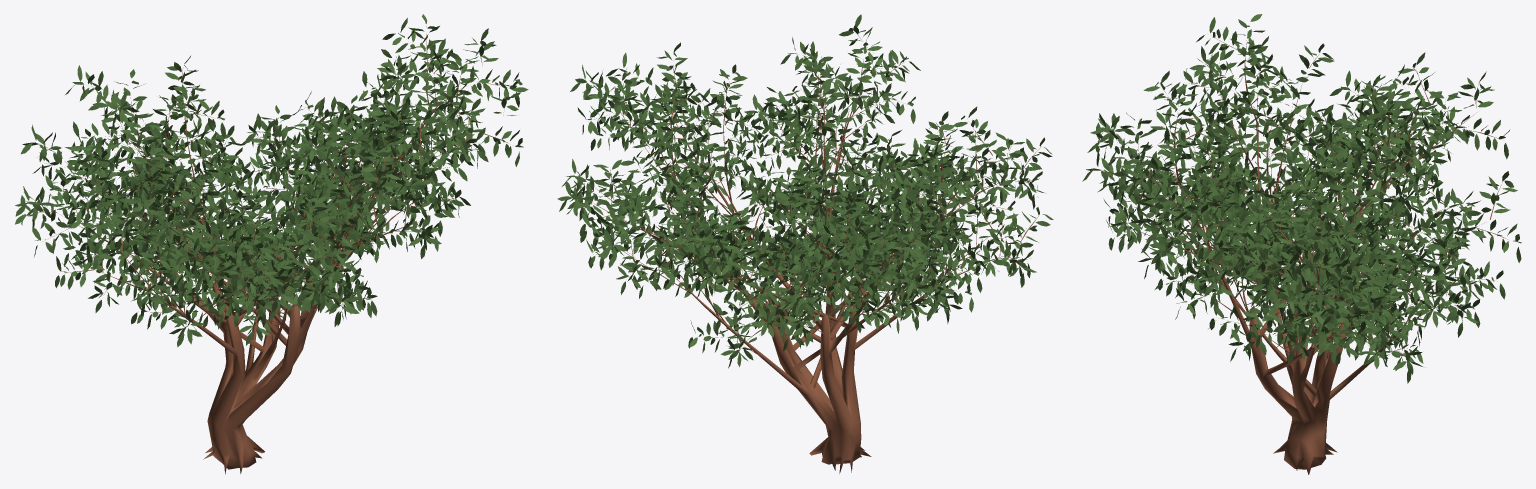
Rendered from Arbousier_2_Niveau0.fbx.
3 views of the same model, side by side, from view 1: azimuth 30°, elevation 25°; view 2: azimuth 150°, elevation 25°; view 3: azimuth 270°, elevation 25° (orthographic). The views are drawn at different scales.
Parts seen in each view (by area): view 1: Arbousier_2_Niveau0_Jeu; view 2: Arbousier_2_Niveau0_Jeu; view 3: Arbousier_2_Niveau0_Jeu.
Boxes of the visible parts, x1,y1,x2,y2 form: Arbousier_2_Niveau0_Jeu: [15, 14, 528, 474]; Arbousier_2_Niveau0_Jeu: [557, 14, 1053, 473]; Arbousier_2_Niveau0_Jeu: [1082, 14, 1521, 474].
Bounding box in the file's own units: 333 × 262 × 266.
